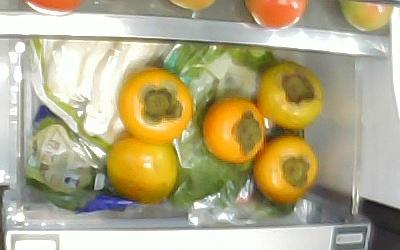persimmon: (118, 69, 194, 143), (108, 136, 178, 202), (259, 63, 324, 131), (253, 136, 318, 203), (202, 98, 265, 164)
